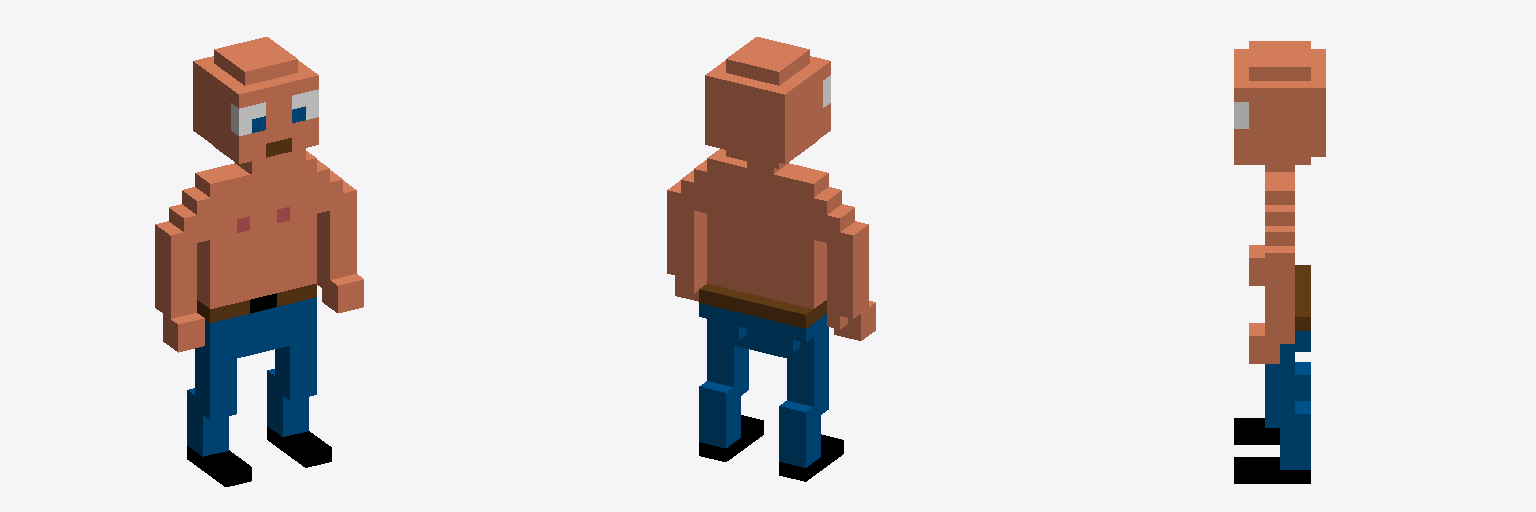
The picture shows the model from 3 angles: view 1: azimuth 30°, elevation 25°; view 2: azimuth 150°, elevation 25°; view 3: azimuth 270°, elevation 25°; orthographic projection.
Parts seen in each view (by area): view 1: object 1; view 2: object 1; view 3: object 1.
Boxes of the visible parts, box(x1,y1,x2,y2) form: object 1: box(155, 37, 363, 486); object 1: box(667, 37, 875, 481); object 1: box(1234, 41, 1325, 483).
Size of the model in its own units: 1.4 by 2.9 by 0.6.
Materials: 1 (1 with a texture image).